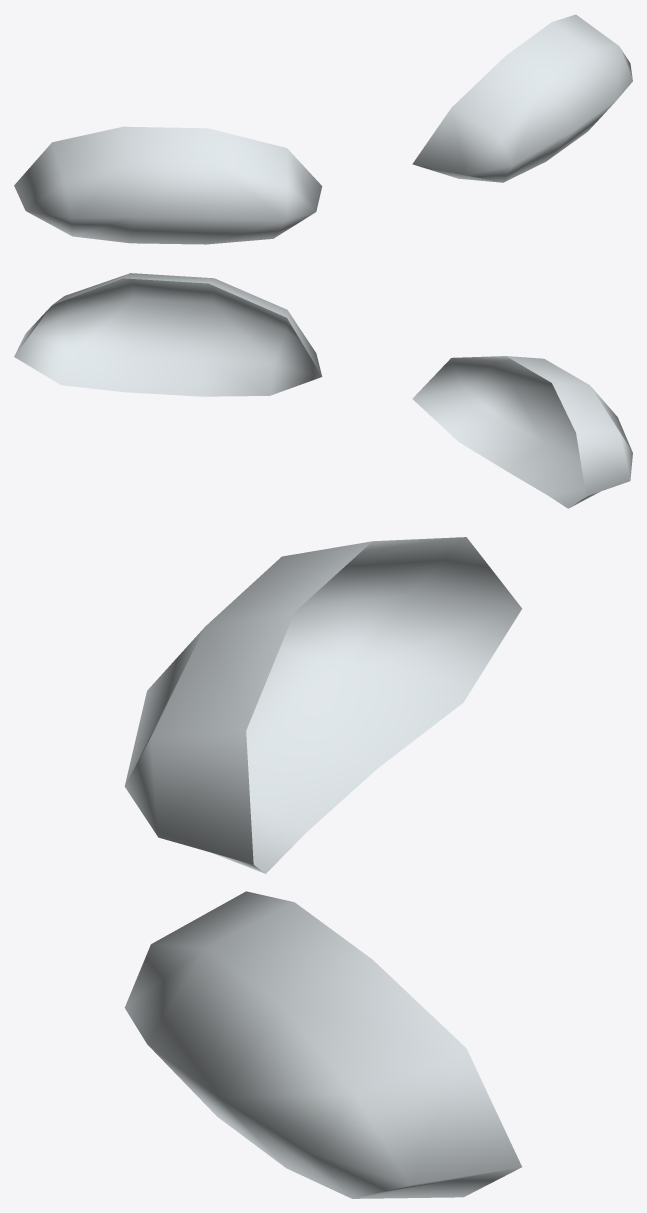
The model's file is Eyebrow_19.fbx.
3 renders of one model, top to bottom at view 1: azimuth 30°, elevation 25°; view 2: azimuth 150°, elevation 25°; view 3: azimuth 270°, elevation 25°, orthographic. The views are drawn at different scales.
Parts seen in each view (by area): view 1: Eyebrow_19; view 2: Eyebrow_19; view 3: Eyebrow_19.
Part boxes in pixels (bbox=[...]): Eyebrow_19: bbox=[14, 14, 632, 244]; Eyebrow_19: bbox=[14, 273, 632, 508]; Eyebrow_19: bbox=[124, 537, 522, 1198].
Bounding box in the file's own units: 39.12 × 7.12 × 11.14.
